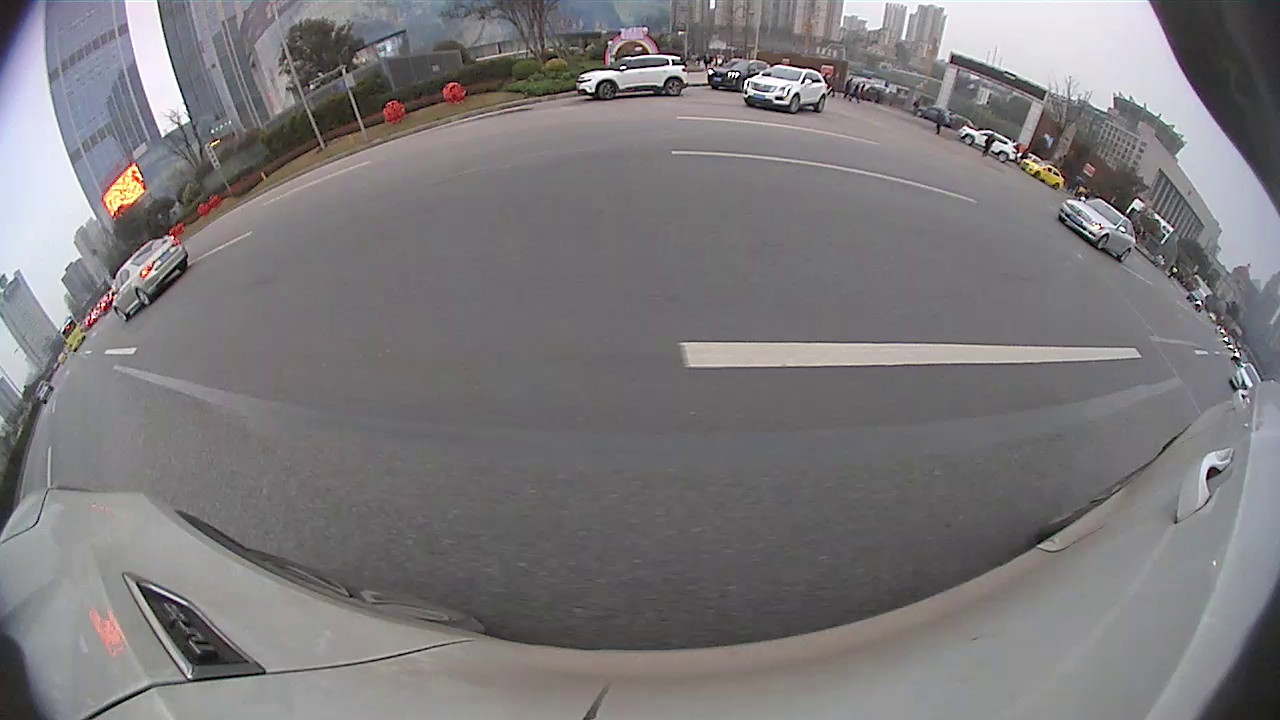car: (110, 235, 189, 321), (577, 50, 691, 102), (1057, 197, 1134, 262), (743, 63, 825, 117), (707, 55, 765, 89), (1228, 361, 1264, 391)
front: (596, 80, 620, 102), (1090, 233, 1108, 251), (788, 94, 803, 115), (115, 305, 129, 321), (960, 132, 974, 147), (1056, 211, 1070, 224), (709, 80, 720, 90), (744, 99, 755, 108)
rear: (134, 285, 156, 310), (664, 78, 685, 99), (813, 93, 828, 115), (1116, 248, 1134, 266), (176, 258, 191, 275), (997, 148, 1008, 164)
